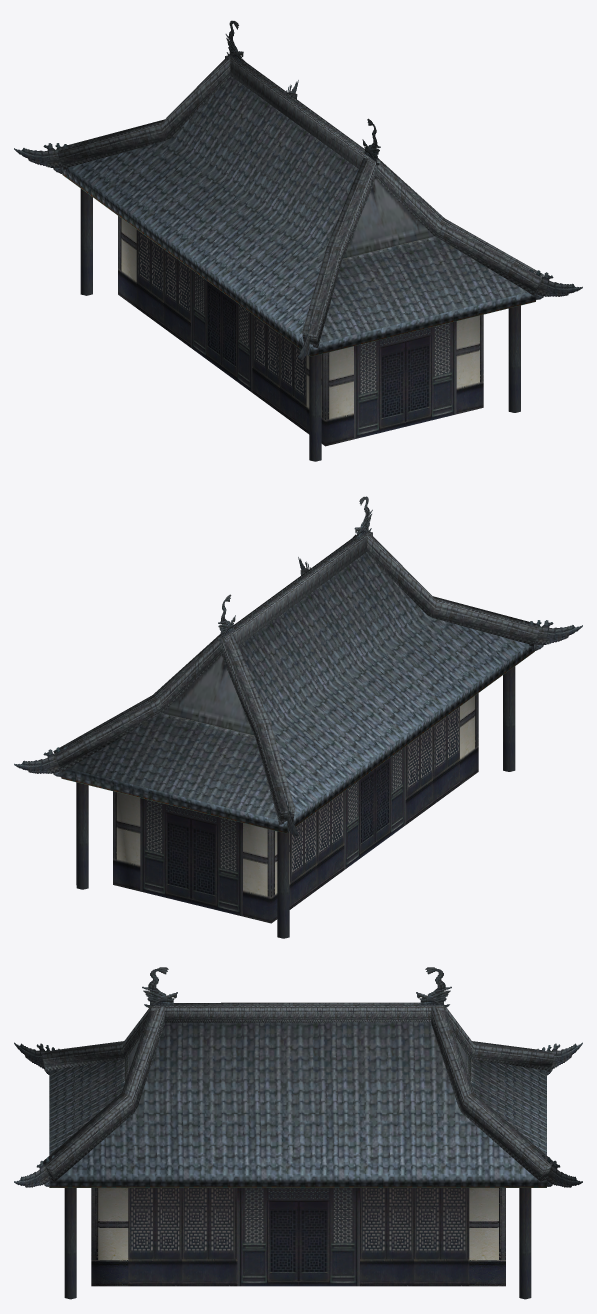
Rendered from cj_mili_main02.glb.
3 views of the same model, one above another, from view 1: azimuth 30°, elevation 25°; view 2: azimuth 150°, elevation 25°; view 3: azimuth 270°, elevation 25° (orthographic).
Parts seen in each view (by area): view 1: CJ_mili_main1_roof, CJ_mili_main1_gidung, CJ_mili_main1_wall, CJ_mili_main1_deco; view 2: CJ_mili_main1_roof, CJ_mili_main1_gidung, CJ_mili_main1_wall, CJ_mili_main1_deco; view 3: CJ_mili_main1_roof, CJ_mili_main1_gidung, CJ_mili_main1_wall, CJ_mili_main1_deco.
Boxes of the visible parts, x1=… form: CJ_mili_main1_roof: x1=57, y1=54, x2=543, y2=356; CJ_mili_main1_gidung: x1=80, y1=188, x2=520, y2=461; CJ_mili_main1_wall: x1=118, y1=216, x2=483, y2=446; CJ_mili_main1_deco: x1=14, y1=20, x2=582, y2=359; CJ_mili_main1_roof: x1=53, y1=531, x2=539, y2=833; CJ_mili_main1_gidung: x1=76, y1=666, x2=515, y2=938; CJ_mili_main1_wall: x1=113, y1=693, x2=478, y2=923; CJ_mili_main1_deco: x1=14, y1=496, x2=582, y2=836; CJ_mili_main1_roof: x1=41, y1=1002, x2=554, y2=1187; CJ_mili_main1_gidung: x1=64, y1=1188, x2=531, y2=1299; CJ_mili_main1_wall: x1=91, y1=1188, x2=505, y2=1286; CJ_mili_main1_deco: x1=14, y1=967, x2=582, y2=1187.
Bounding box in the file's own units: 12.79 × 12.04 × 22.11.
4 materials, 4 textured.
